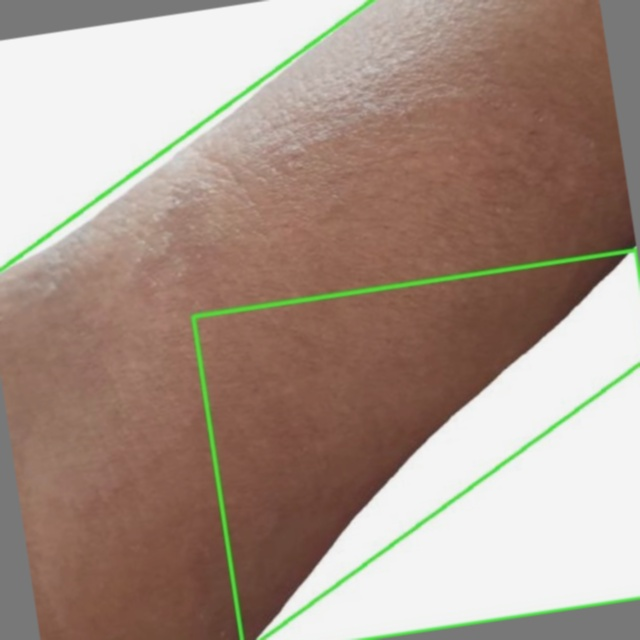Tinea Corporis: (0, 0, 639, 639), (193, 250, 639, 639)
